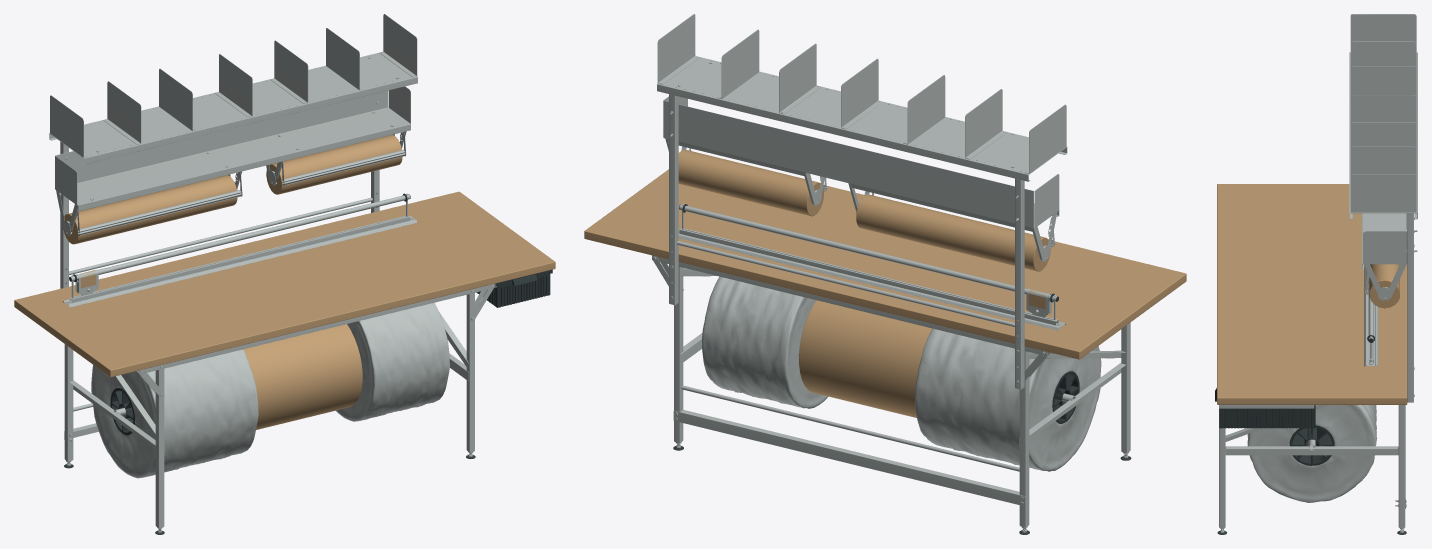
File: table_deluxe_packing_a01.glb
3 views of the same model, side by side, from view 1: azimuth 30°, elevation 25°; view 2: azimuth 150°, elevation 25°; view 3: azimuth 270°, elevation 25° (orthographic). The views are drawn at different scales.
Size of the model in its own units: 2.44 by 1.93 by 0.9748.
